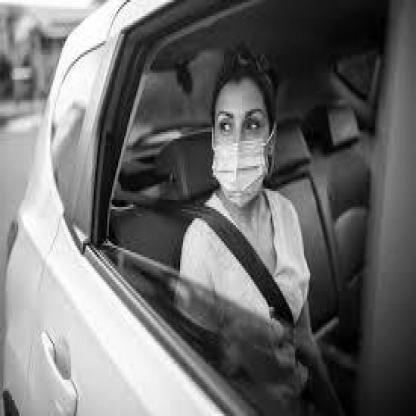seatbelt: (175, 52, 322, 321)
